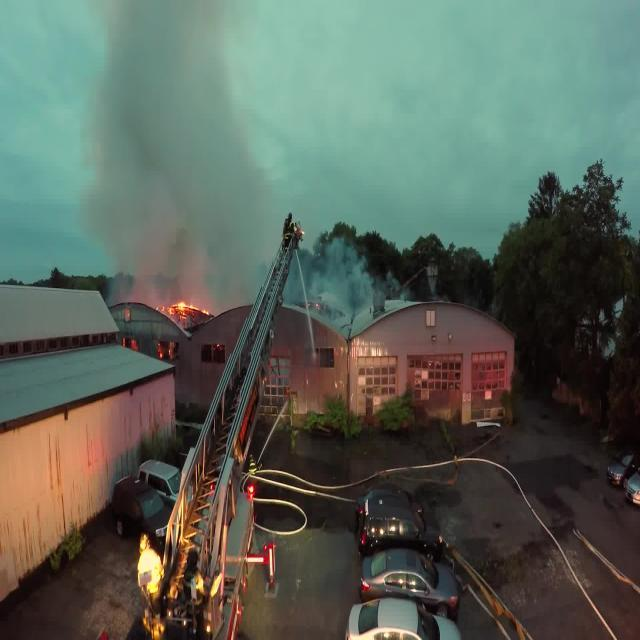Fire: (115, 292, 211, 368)
Smoke: (85, 0, 388, 402)
